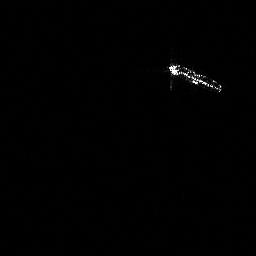ship: (164, 60, 224, 96)
